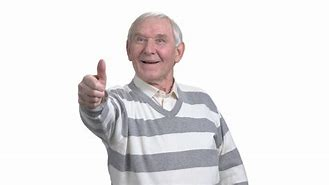person: (125, 12, 185, 87)
